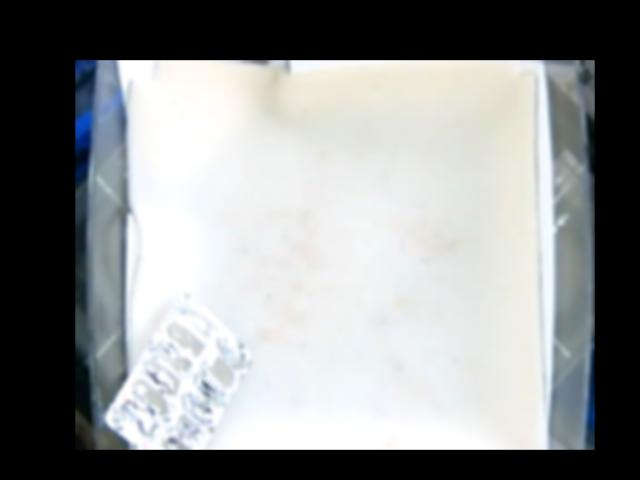Medicine: (103, 294, 253, 449)
